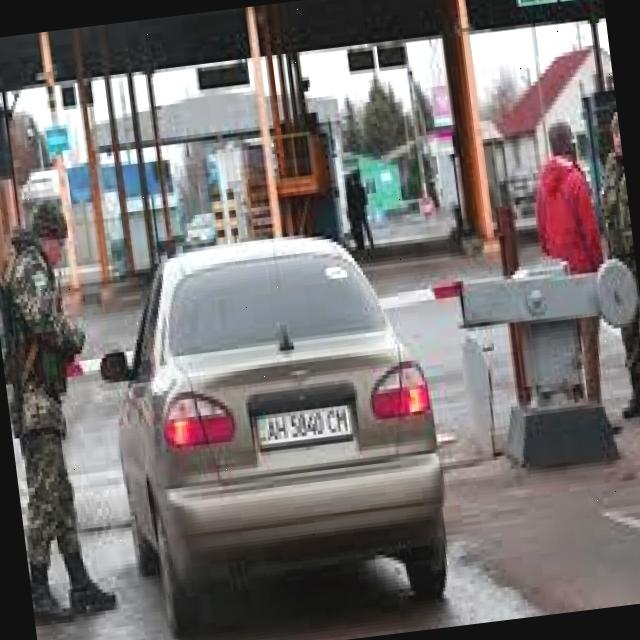number-plates: (253, 401, 354, 455)
